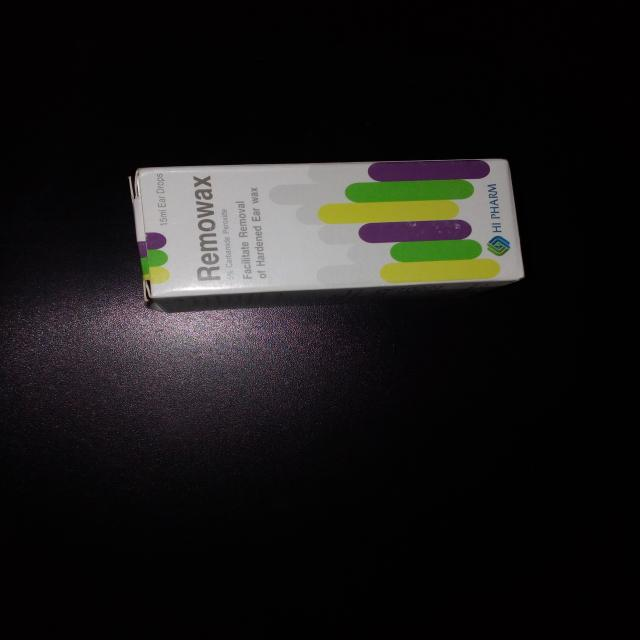Medicine: (124, 156, 528, 300)
